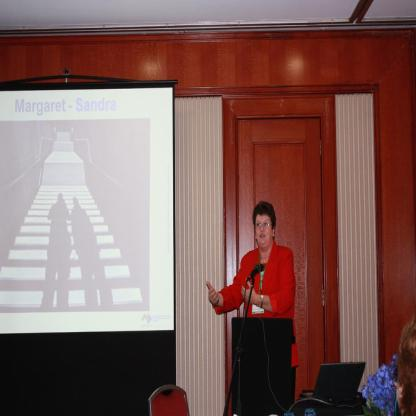board: (312, 356, 369, 410)
